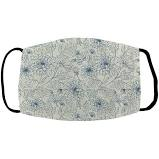cloth_mask: (1, 36, 159, 122)
